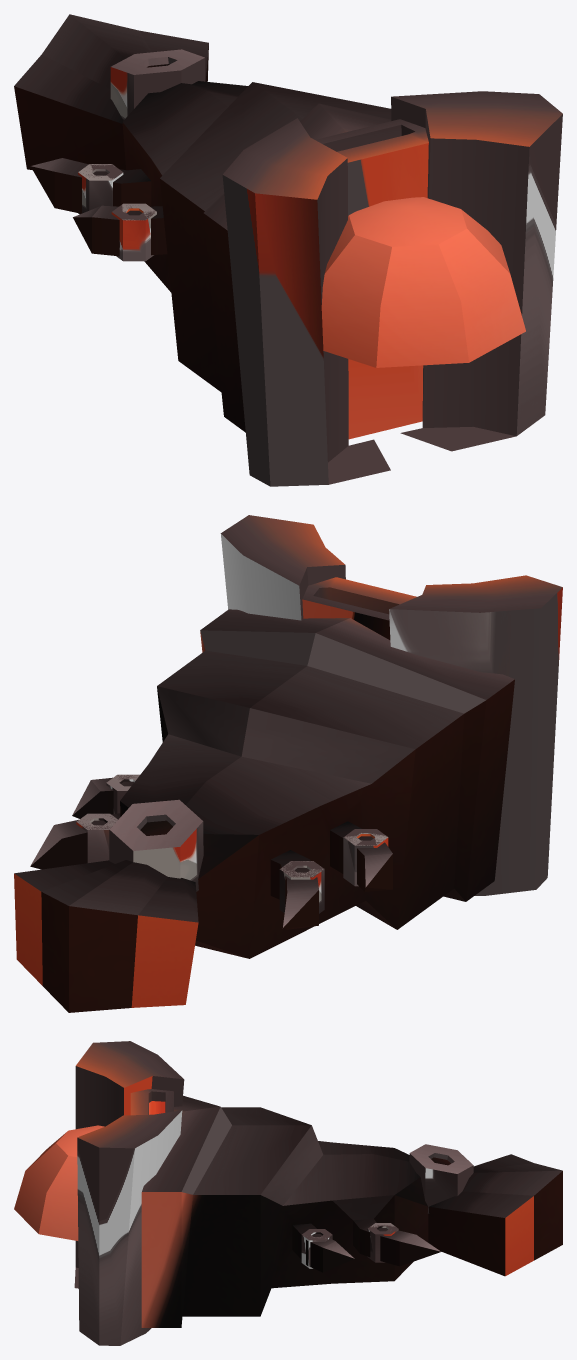
Rendered from kamikaze.fbx.
3 renders of one model, top to bottom at view 1: azimuth 30°, elevation 25°; view 2: azimuth 150°, elevation 25°; view 3: azimuth 270°, elevation 25°, orthographic. The views are drawn at different scales.
Visible parts, largest first — view 1: Cube.003, Sphere.002, Sphere.001, Cylinder.001, Cylinder.003; view 2: Sphere.002, Cube.003, Cylinder.001, Cylinder.003; view 3: Sphere.002, Cube.003, Sphere.001, Cylinder.001, Cylinder.003.
Part boxes in pixels (x1,y1,x2,y2): Cube.003: (222, 91, 562, 486); Sphere.002: (14, 14, 391, 432); Sphere.001: (321, 197, 525, 367); Cylinder.001: (78, 49, 205, 261); Cylinder.003: (83, 164, 155, 220); Sphere.002: (14, 609, 514, 1012); Cube.003: (220, 515, 562, 895); Cylinder.001: (76, 774, 388, 913); Cylinder.003: (76, 775, 386, 912); Sphere.002: (141, 1095, 562, 1327); Cube.003: (74, 1041, 184, 1345); Sphere.001: (14, 1125, 104, 1240); Cylinder.001: (301, 1144, 473, 1267); Cylinder.003: (302, 1225, 398, 1268).
Size of the model in its own units: 82.7 by 73.55 by 179.
